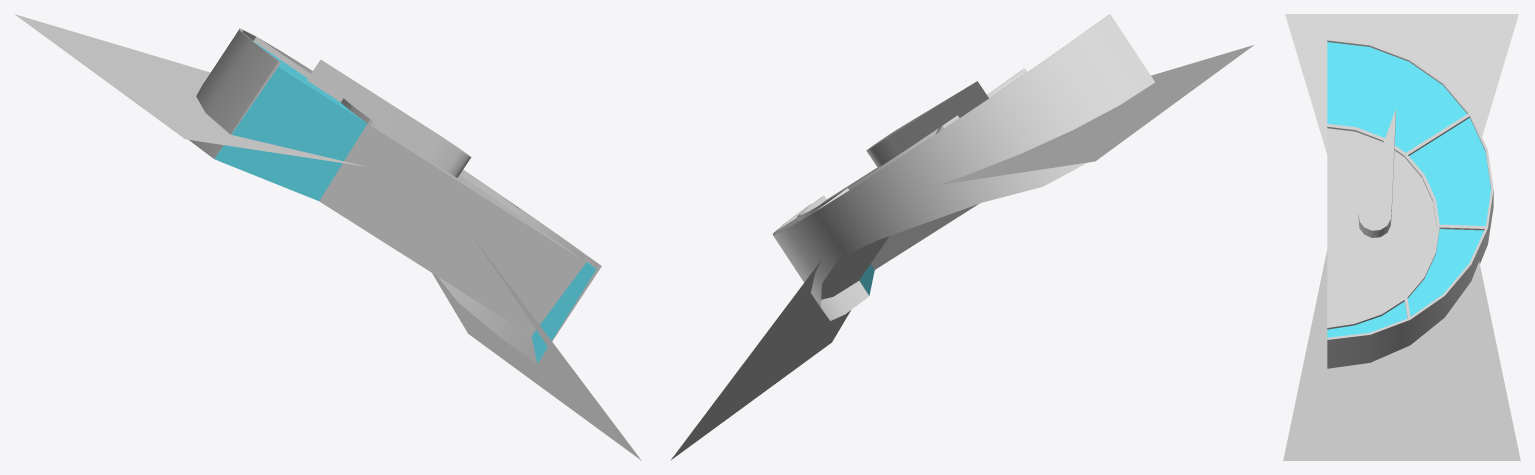
Rendered from Mod_Pauldron_L_Mirage3.fbx.
3 views of the same model, side by side, from view 1: azimuth 30°, elevation 25°; view 2: azimuth 150°, elevation 25°; view 3: azimuth 270°, elevation 25° (orthographic). The views are drawn at different scales.
Parts seen in each view (by area): view 1: Mod_Pauldron_L_Mirage3; view 2: Mod_Pauldron_L_Mirage3; view 3: Mod_Pauldron_L_Mirage3.
Part boxes in pixels (x1,y1,x2,y2): Mod_Pauldron_L_Mirage3: (14,14,641,460); Mod_Pauldron_L_Mirage3: (670,14,1253,460); Mod_Pauldron_L_Mirage3: (1283,14,1520,460).
Bounding box in the file's own units: 218 × 209 × 144.
